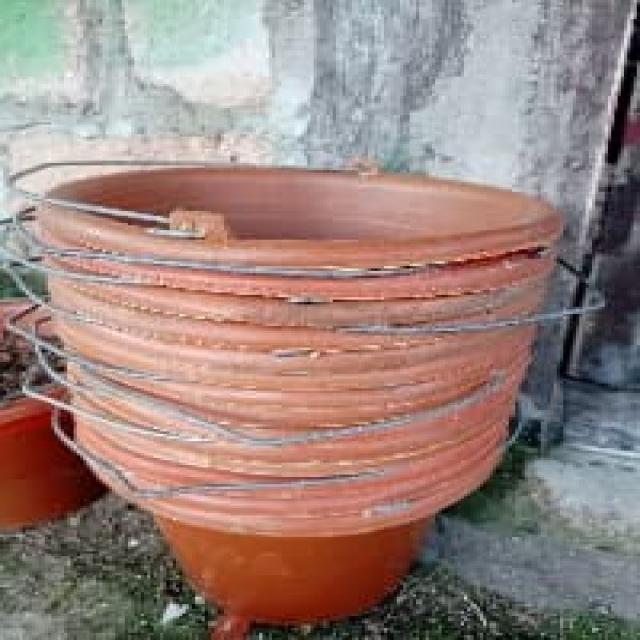HDPE Plastic: (34, 158, 572, 628), (4, 289, 104, 541)
